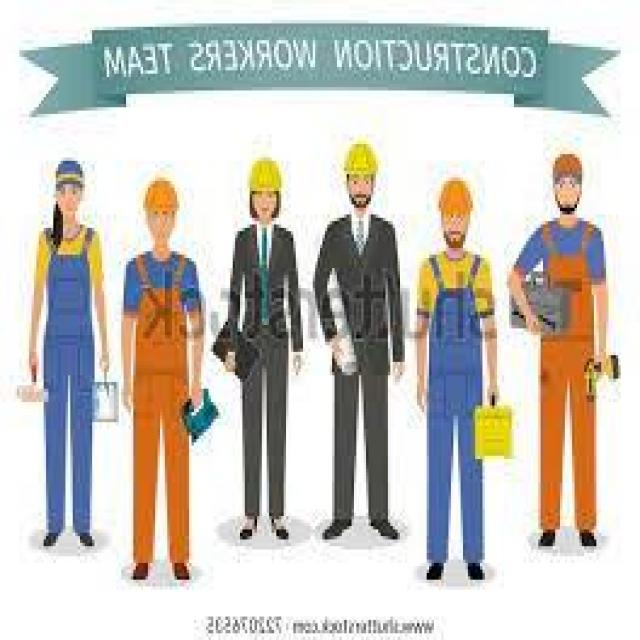Reflective-Jacket: (526, 214, 609, 366), (124, 248, 201, 395)
Safety-Helmet: (242, 150, 288, 198), (339, 131, 383, 181), (138, 171, 182, 218), (48, 154, 88, 188)
